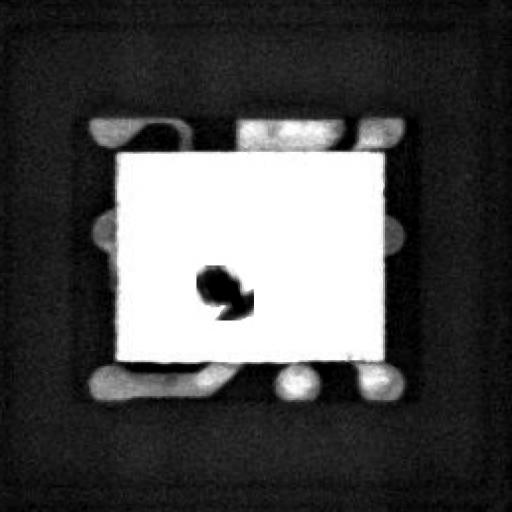DIE_INK: (186, 276, 239, 331)
